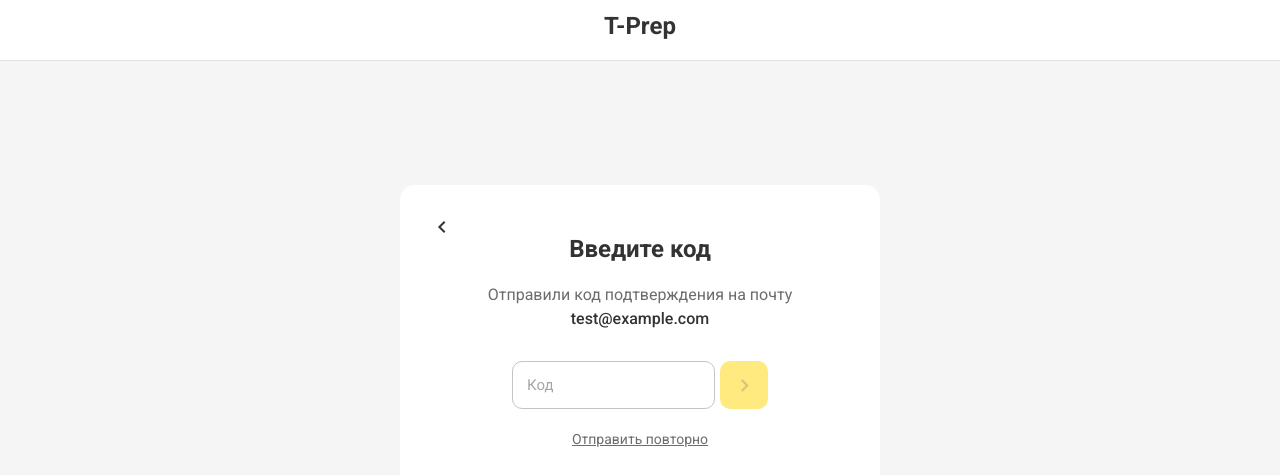
EmailVerification › should show error when resend code fails
What coordinates should you click on to do the following:
click the button "Отправить повторно"
I would click on:
 (640, 439)
Its box is [572, 431, 708, 447].
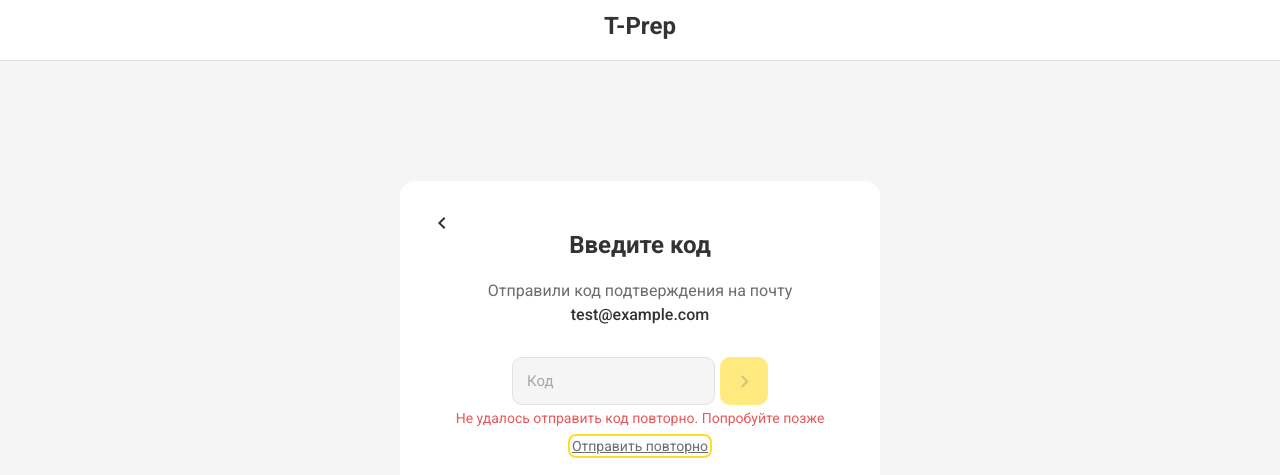
expect the text "Не удалось отправить код повторно. Попробуйте позже" is shown: met, box [440, 410, 840, 426]
